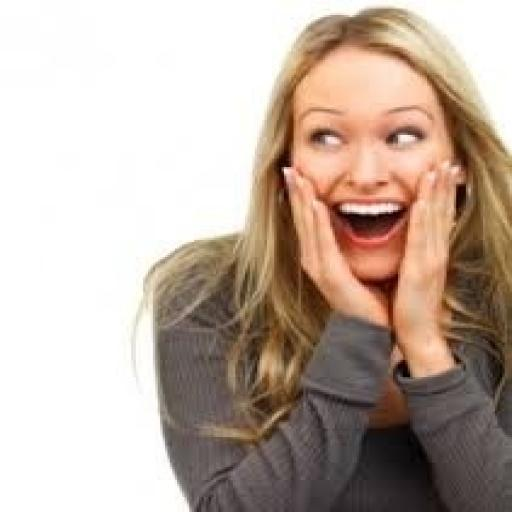laughing: (134, 2, 510, 510)
